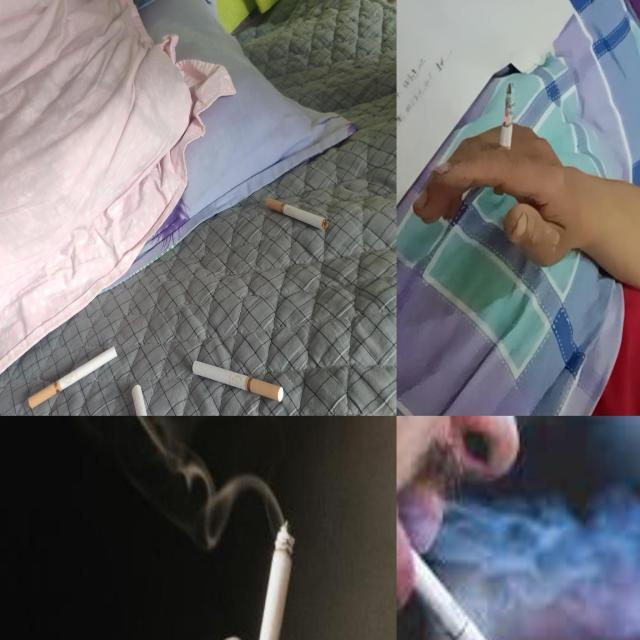smoking: (397, 529, 596, 640), (240, 506, 298, 640), (28, 346, 118, 410), (192, 359, 286, 403), (493, 82, 515, 196), (265, 197, 328, 231), (131, 384, 165, 416)
